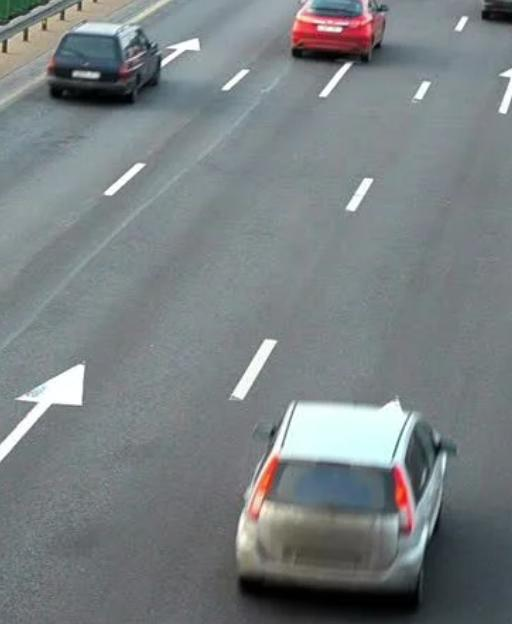car: (228, 383, 470, 609), (39, 16, 165, 105), (283, 0, 392, 63)
